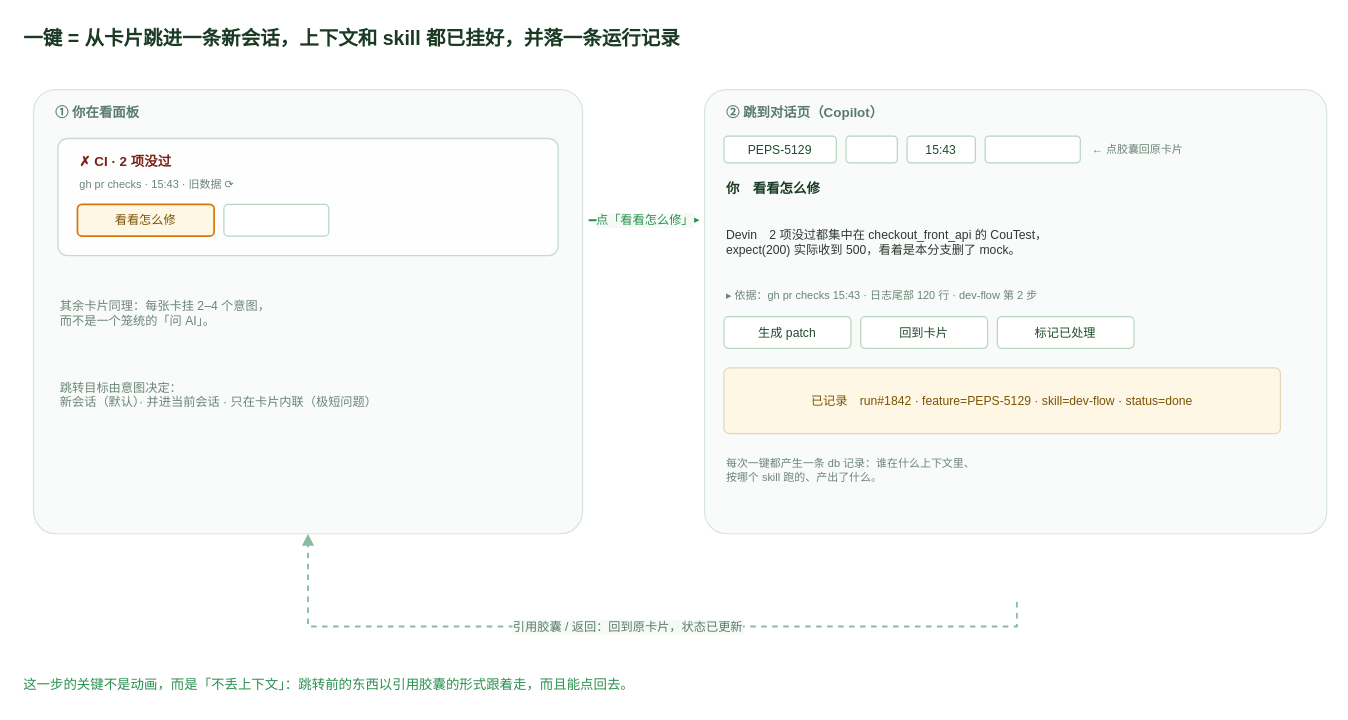
Some shapes in this 1348 by 720 pixel diagram are drawn without their labels. The centre of each missing label's shape, as x and y in pixels:
"CI" belongs at pixel 871 149.
"展开日志" belongs at pixel 276 219.
"旧数据 ⟳" belongs at pixel 1032 149.
